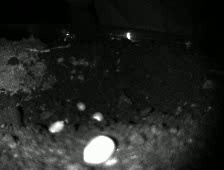corn: (81, 133, 118, 166), (48, 118, 66, 136), (89, 110, 106, 123), (75, 100, 88, 113)
